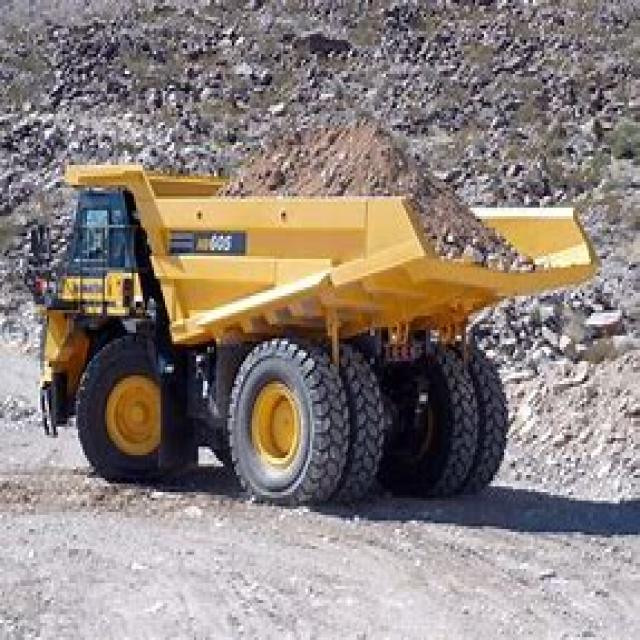dump_truck: (31, 97, 602, 532)
